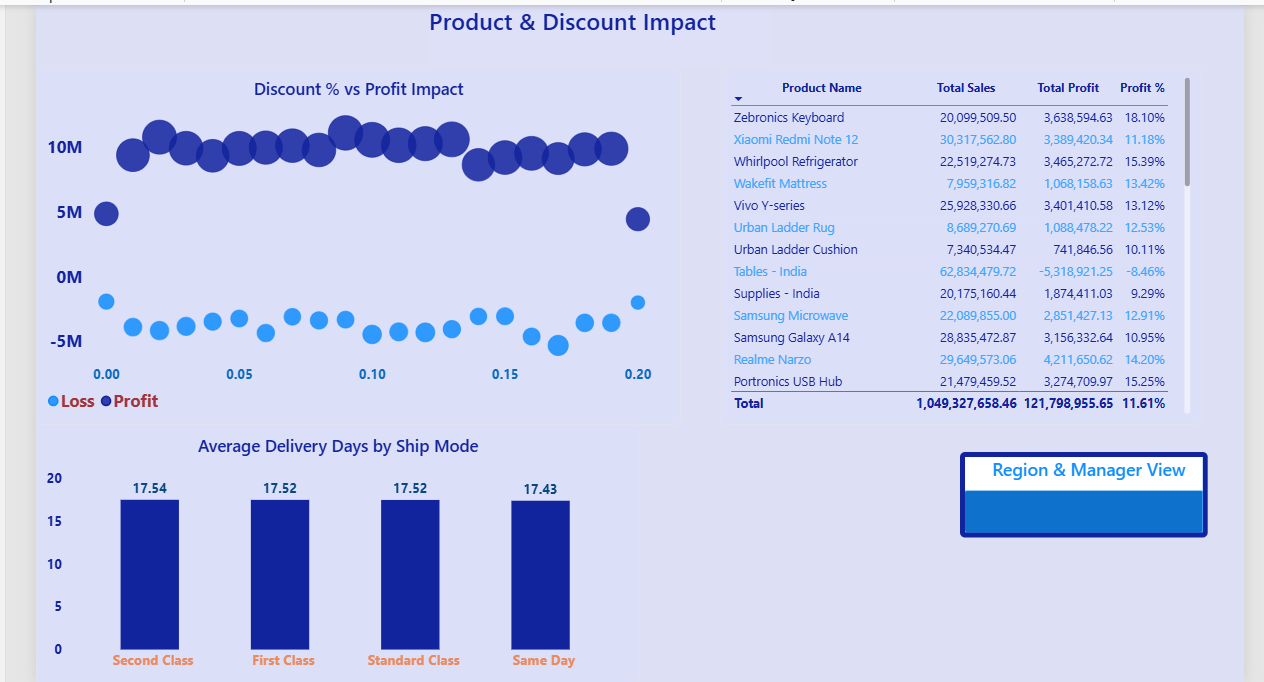

The page's visual inventory and layout, read from the dashboard file:
{"tool":"powerbi","page":{"name":"Product & Discount Impact","canvas":[1920,1080],"ordinal":3},"visuals":[{"type":"tableEx","fields":{"Values":["Orders.Product Name","Orders.Total Sales","Orders.Total Profit","Orders.Profit %"]},"box":[1087.5,100,765,567.5],"z":0},{"type":"clusteredColumnChart","title":"Average Delivery Days by Ship Mode","fields":{"Category":["Orders.Ship Mode"],"Y":["Avg(Orders.Delivery Days)"]},"box":[0,667.5,960,412.5],"z":1000},{"type":"textbox","title":"Product & Discount Impact","box":[625,0,547.5,100],"z":2000},{"type":"scatterChart","title":"Discount % vs Profit Impact","fields":{"Series":["Orders.Loss/Profit Flag"],"Size":["Sum(Orders.Sales)"],"X":["Orders.Discount"],"Y":["Sum(Orders.Profit)"]},"box":[0,100,1025,567.5],"z":3000},{"type":"actionButton","title":"Region & Manager View","box":[1469.7,711,393.7,136],"z":4000}]}

Visuals, with their boxes on the page's 1920x1080 design canvas (x1, y1, x2, y2). These are canvas units, not pixel positions in the 1264x682 screenshot, which may show the page scaled, cropped or inside an application window:
tableEx - Orders.Product Name x Orders.Total Sales: <box>1088,100,1852,668</box>
"Average Delivery Days by Ship Mode" clusteredColumnChart: <box>0,668,960,1080</box>
"Product & Discount Impact" textbox: <box>625,0,1172,100</box>
"Discount % vs Profit Impact" scatterChart: <box>0,100,1025,668</box>
"Region & Manager View" actionButton: <box>1470,711,1863,847</box>
